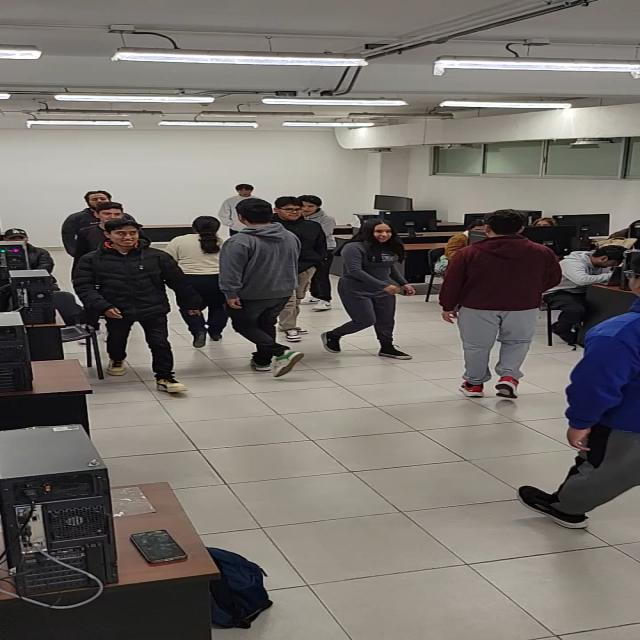Persona: (440, 206, 552, 404), (85, 220, 191, 392), (236, 202, 306, 378), (333, 217, 417, 354), (172, 212, 225, 304), (69, 186, 140, 230), (278, 194, 328, 240), (217, 182, 261, 200)
